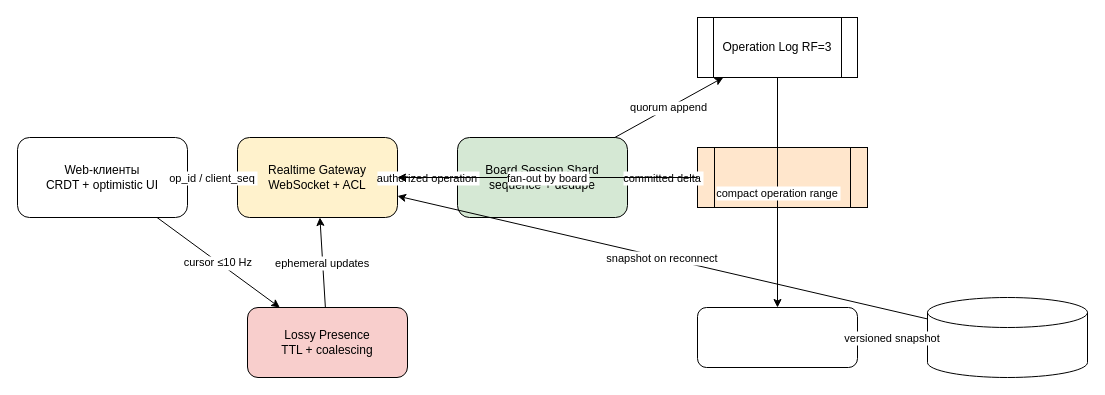
The diagram is 1105 pixels wide and 395 high, and some of its shapes have lost their labels. The shapes that lost their labels are listed below. From the top down, each one's box as (x1, y1, x2, y2) in pixels, then its label:
(696, 146, 868, 208): Regional Fan-out Pub/Sub
(696, 306, 858, 368): CRDT Snapshotter
(926, 296, 1088, 378): Snapshot Object Store
